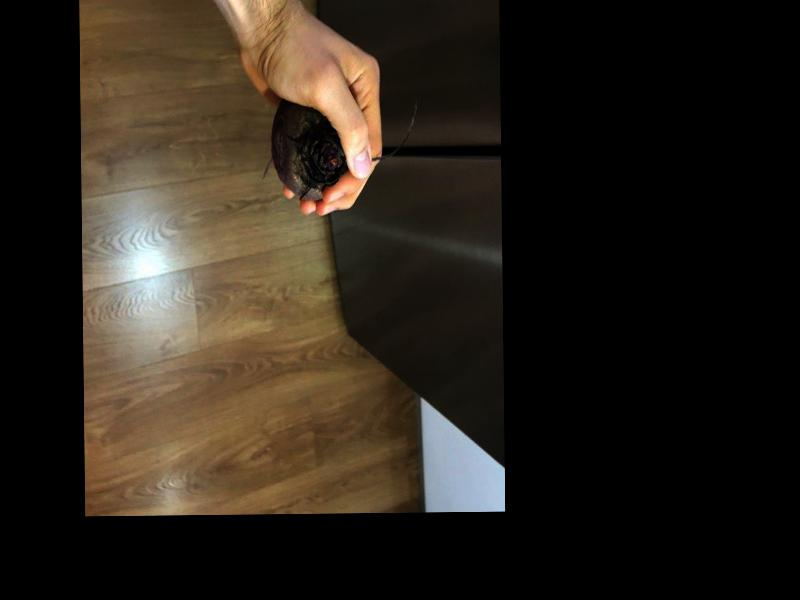Beet: (271, 97, 419, 202)
